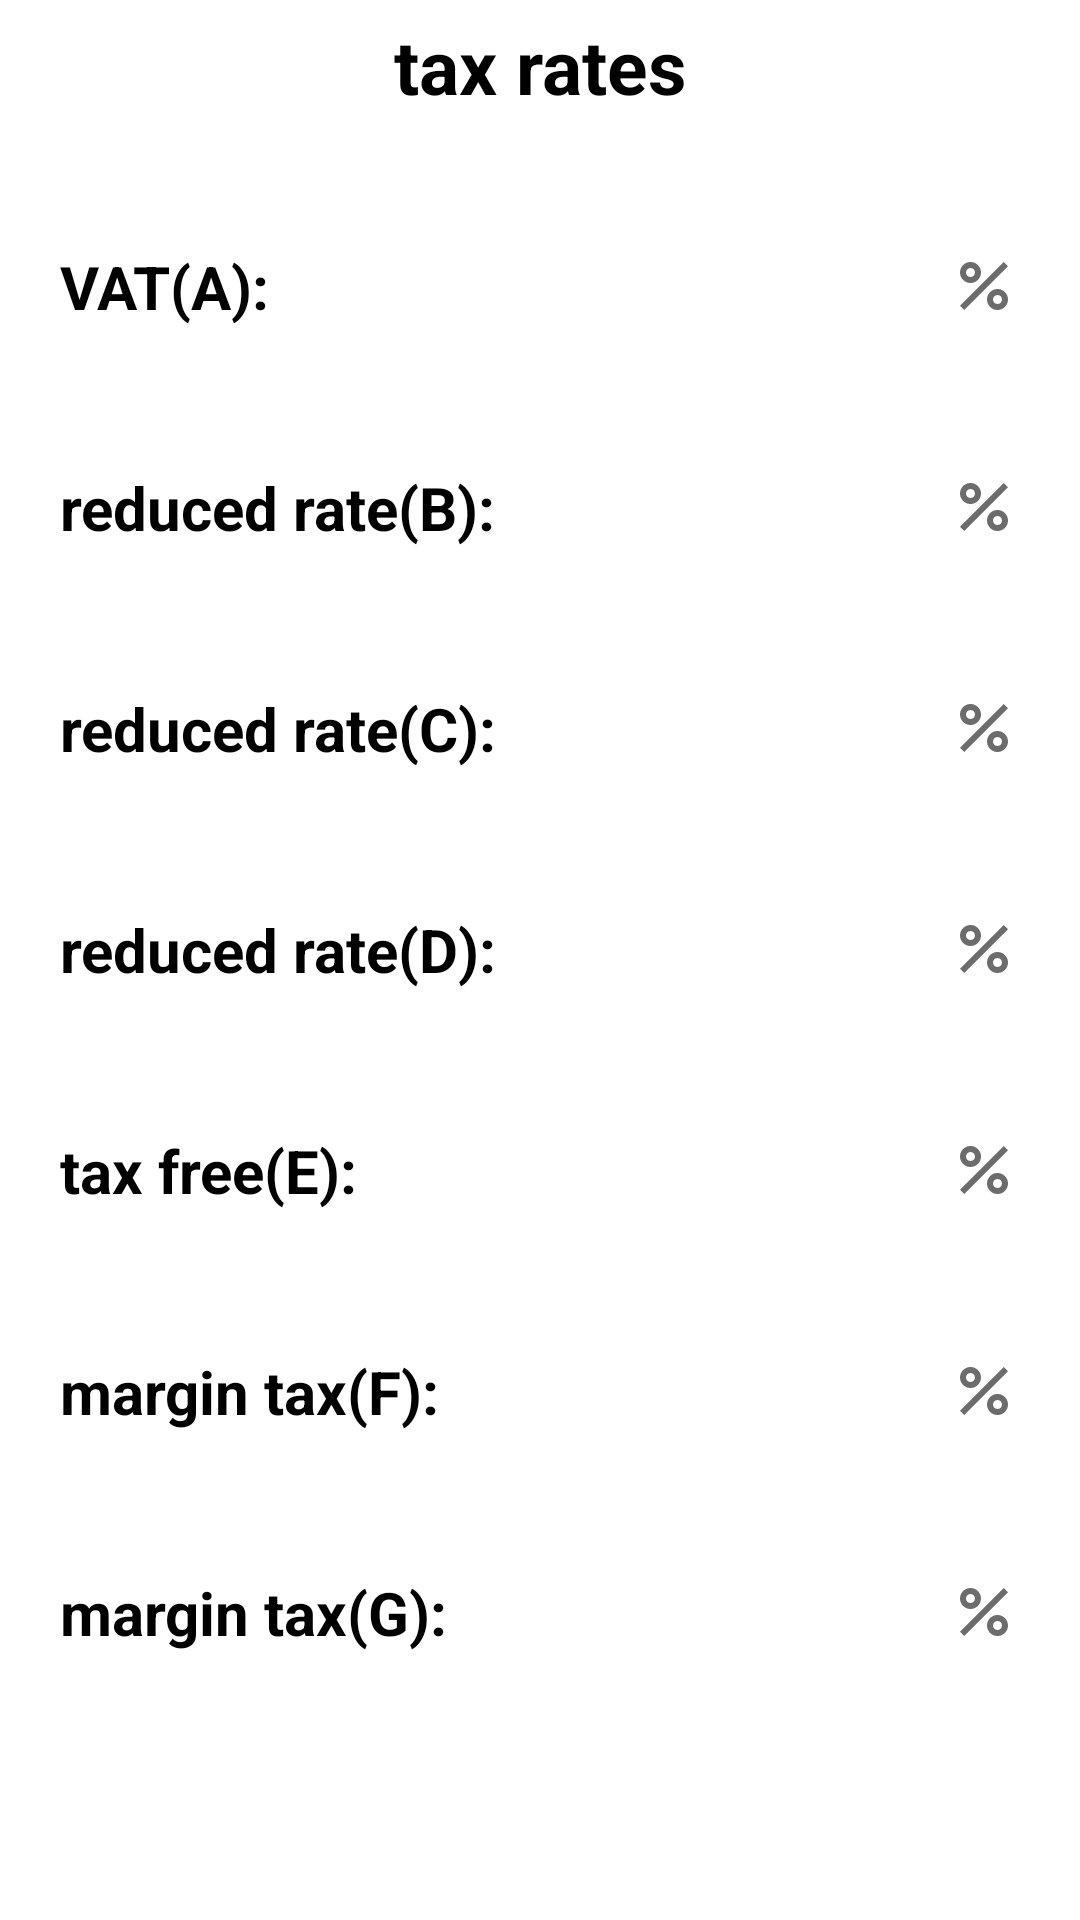

Where to tap for icons on this 1080px x 1920px app screen, as (x=x, y=y):
percent: (x=984, y=286), (x=984, y=507), (x=984, y=728), (x=984, y=949), (x=984, y=1170), (x=984, y=1391), (x=984, y=1612)
